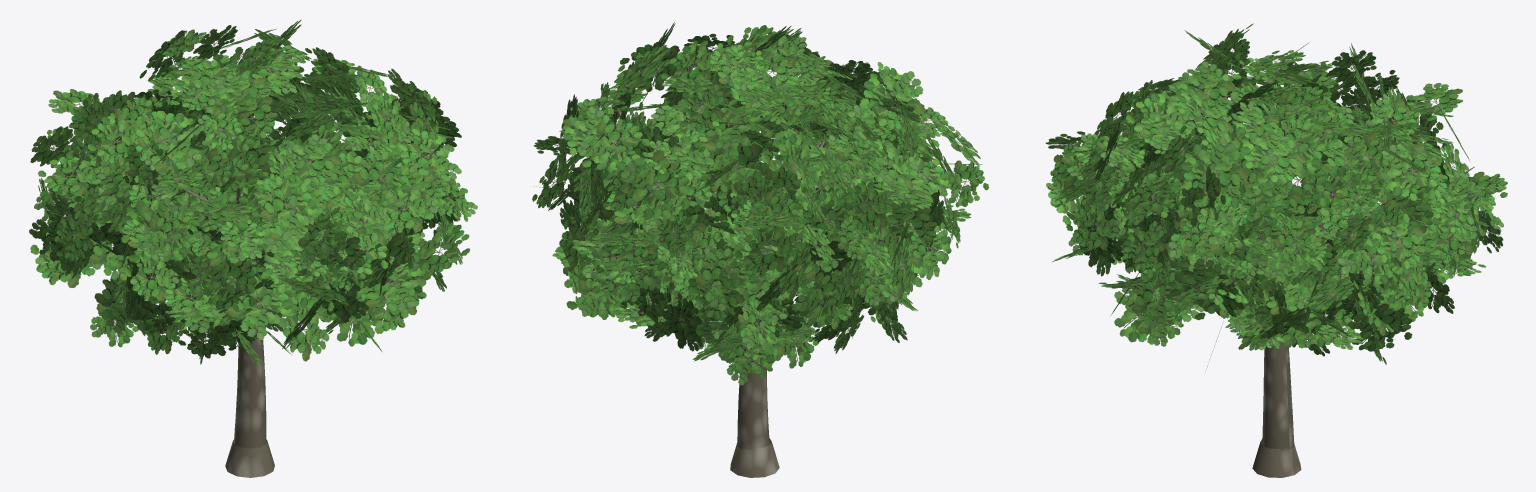
Rendered from chinor_0.glb.
3 renders of one model, left to right at view 1: azimuth 30°, elevation 25°; view 2: azimuth 150°, elevation 25°; view 3: azimuth 270°, elevation 25°, orthographic.
Parts seen in each view (by area): view 1: chinor_leaves, chinor_bark; view 2: chinor_leaves, chinor_bark; view 3: chinor_leaves, chinor_bark.
Boxes of the visible parts, x1=… form: chinor_leaves: x1=29, y1=19, x2=477, y2=366; chinor_bark: x1=91, y1=122, x2=412, y2=477; chinor_leaves: x1=532, y1=22, x2=988, y2=385; chinor_bark: x1=589, y1=73, x2=923, y2=477; chinor_leaves: x1=1045, y1=23, x2=1507, y2=369; chinor_bark: x1=1096, y1=89, x2=1482, y2=477.
Bounding box in the file's own units: 13.02 × 13.03 × 13.89.
2 materials, 2 textured.
